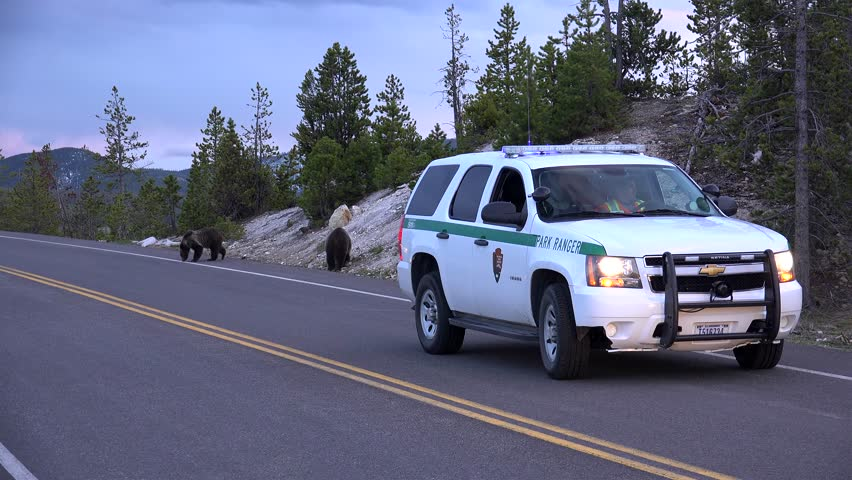Vehicle: (393, 137, 808, 382)
